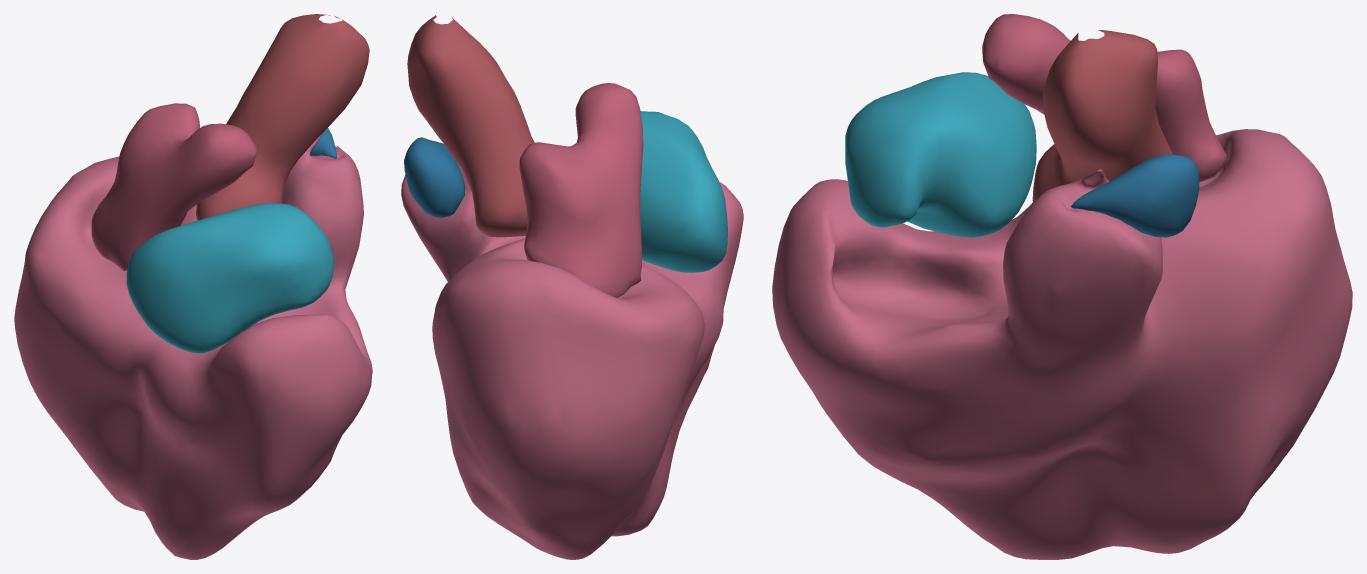
File: frame_56.glb
3 renders of one model, left to right at view 1: azimuth 30°, elevation 25°; view 2: azimuth 150°, elevation 25°; view 3: azimuth 270°, elevation 25°, orthographic. The views are drawn at different scales.
Parts seen in each view (by area): view 1: Renderer Node; view 2: Renderer Node; view 3: Renderer Node.
Boxes of the visible parts, x1,y1,x2,y2 form: Renderer Node: (14,14,372,559); Renderer Node: (401,15,743,559); Renderer Node: (772,14,1352,559).
Size of the model in its own units: 102 by 158 by 133.
